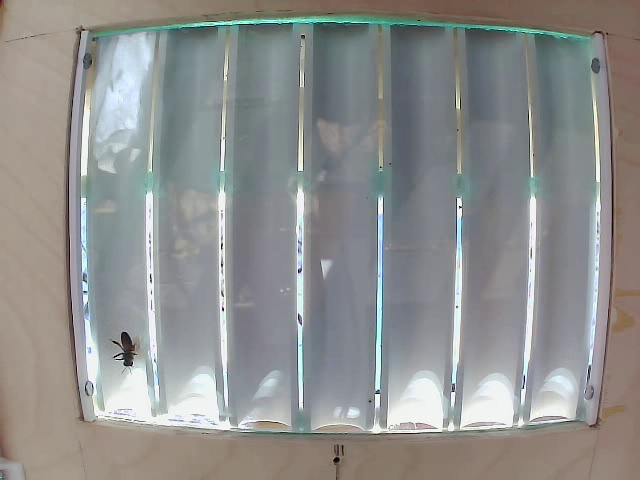bee: (115, 324, 147, 377)
